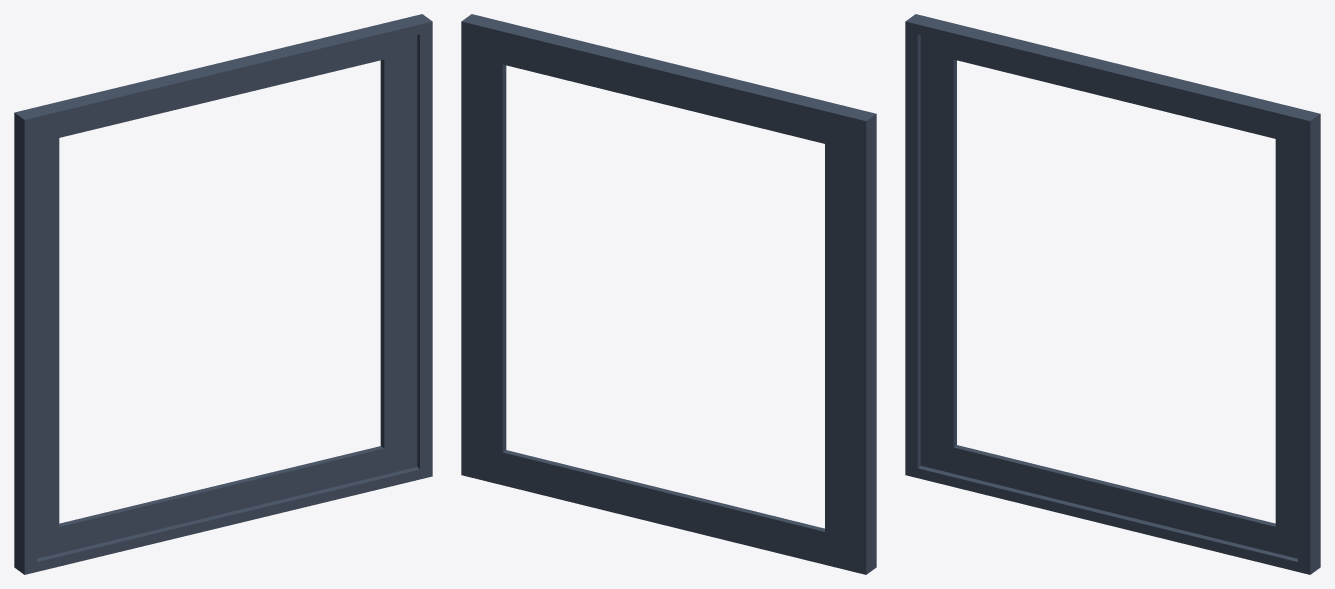
File: mesh150__e079455c_0a9a_8342_b37e_7bd19f9d3391__0_lev1.glb
3 views of the same model, side by side, from view 1: azimuth 30°, elevation 25°; view 2: azimuth 150°, elevation 25°; view 3: azimuth 330°, elevation 25° (orthographic).
Parts seen in each view (by area): view 1: mesh150__e079455c_0a9a_8342_b37e_7bd19f9d3391__0_lev1; view 2: mesh150__e079455c_0a9a_8342_b37e_7bd19f9d3391__0_lev1; view 3: mesh150__e079455c_0a9a_8342_b37e_7bd19f9d3391__0_lev1.
Boxes of the visible parts, x1,y1,x2,y2 form: mesh150__e079455c_0a9a_8342_b37e_7bd19f9d3391__0_lev1: (14, 14, 432, 574); mesh150__e079455c_0a9a_8342_b37e_7bd19f9d3391__0_lev1: (461, 14, 876, 574); mesh150__e079455c_0a9a_8342_b37e_7bd19f9d3391__0_lev1: (905, 14, 1320, 574).
Size of the model in its own units: 4.53 by 4.84 by 0.2185.
